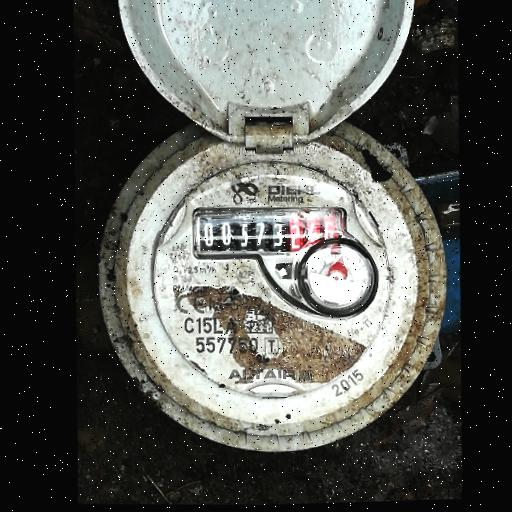0: (201, 218, 219, 252), (217, 217, 235, 251)
2: (286, 216, 304, 251)
3: (268, 216, 287, 251)
4: (303, 215, 321, 248)
5: (234, 216, 252, 250)
6: (321, 215, 339, 240)
7: (251, 216, 269, 251)
border_water_meter_number: (192, 203, 360, 262)
